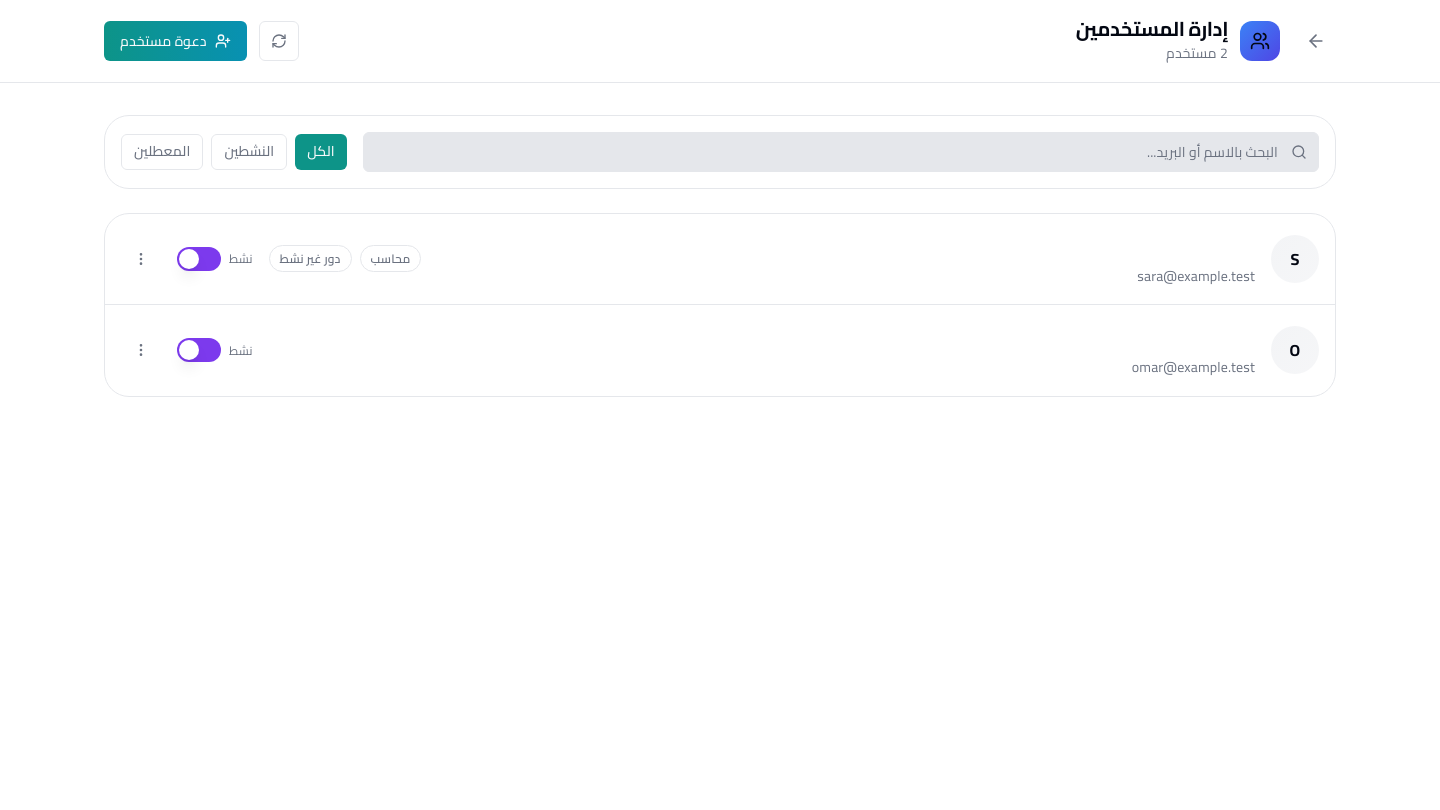
Test: controls — successful reads keep full-set replacement semantics › keeps an assigned inactive role across two unchanged saves
Step 1. Click the button named "إجراءات المستخدم" in the row of "دور غير نشط" → [141, 259], box x1=121 y1=239 x2=161 y2=279
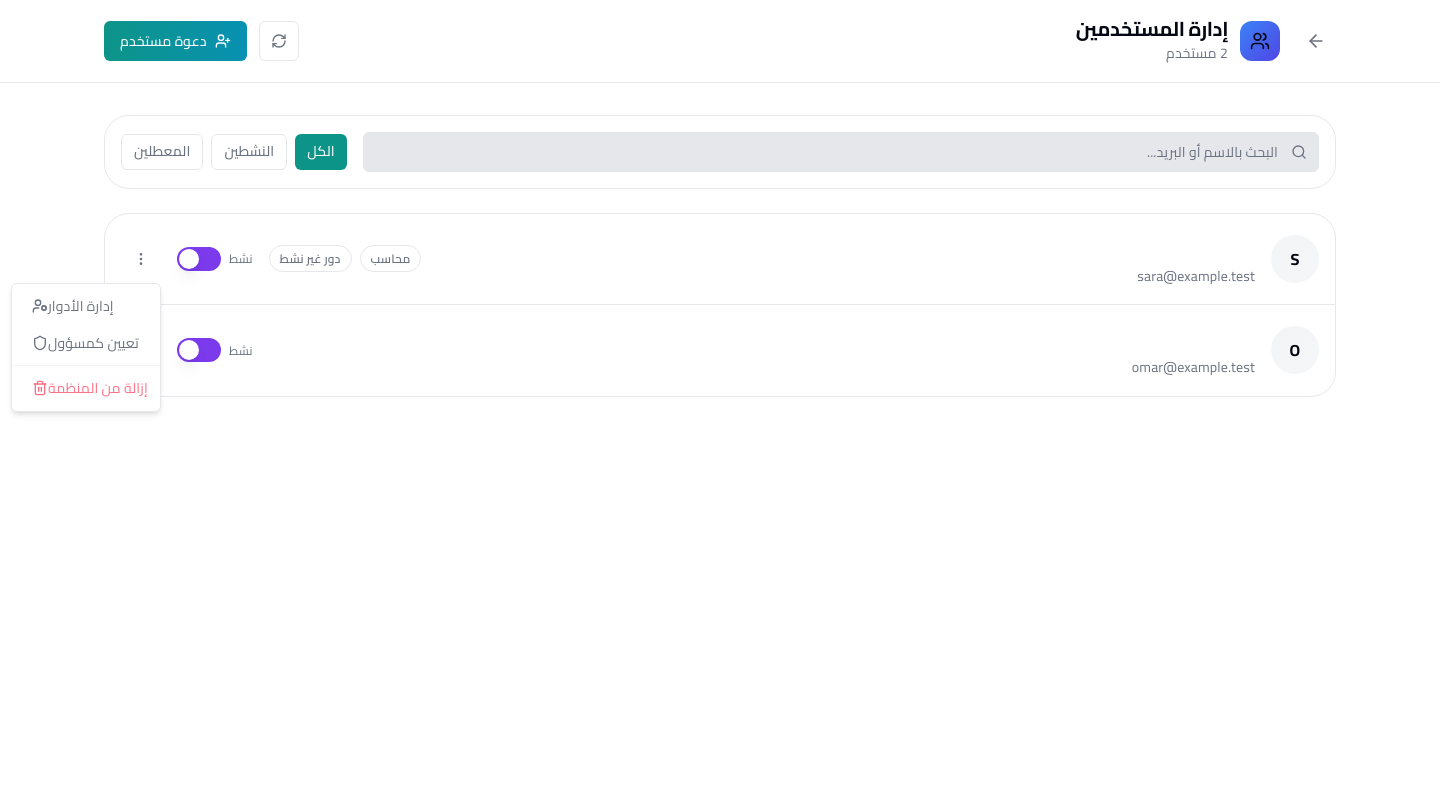
Step 2. Click the menu item "إدارة الأدوار" → [73, 306], box x1=32 y1=293 x2=114 y2=319
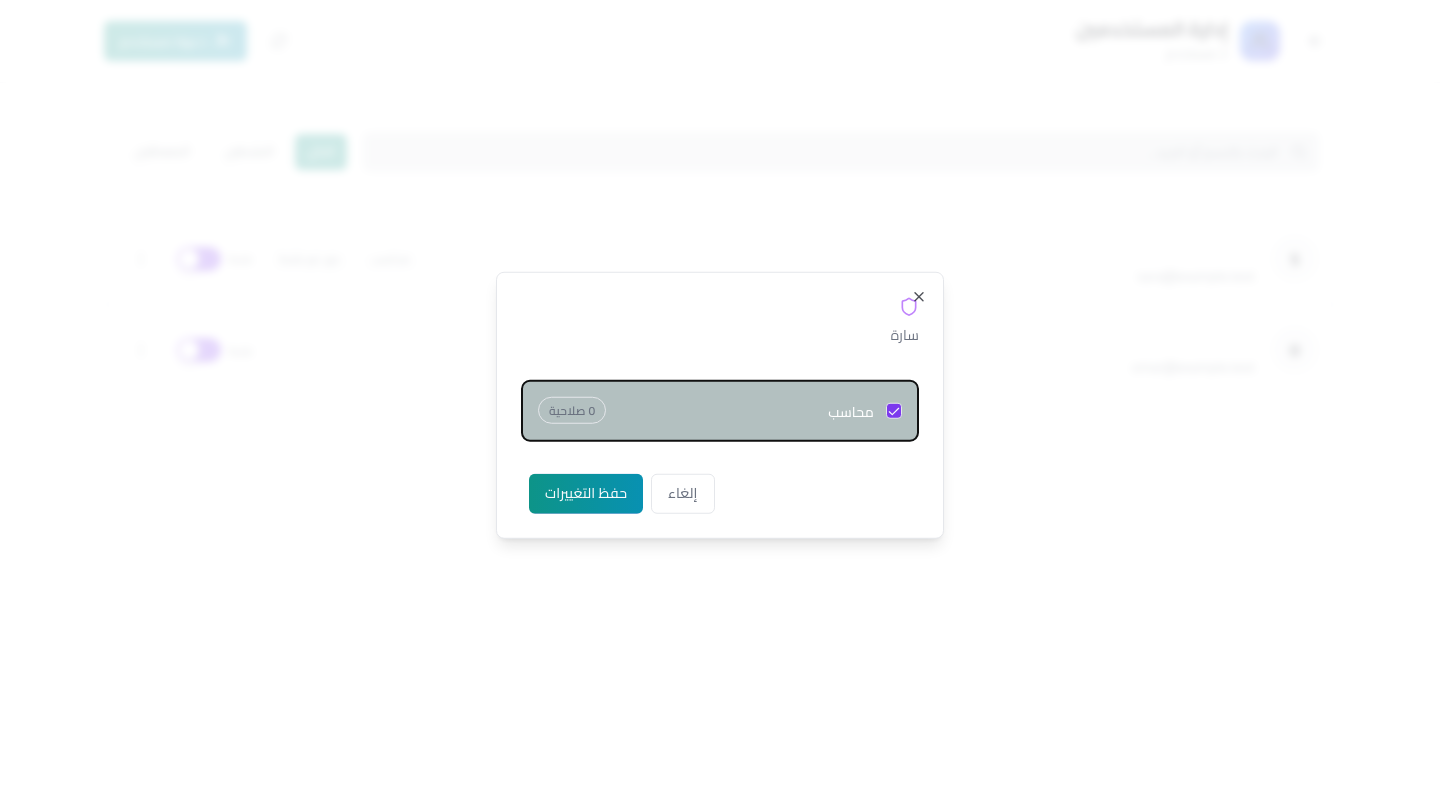
Now the dialog "إدارة أدوار المستخدم" is shown, box x1=496 y1=272 x2=944 y2=538
Step 3. Click the button "حفظ التغييرات" → [586, 493], box x1=529 y1=473 x2=643 y2=513
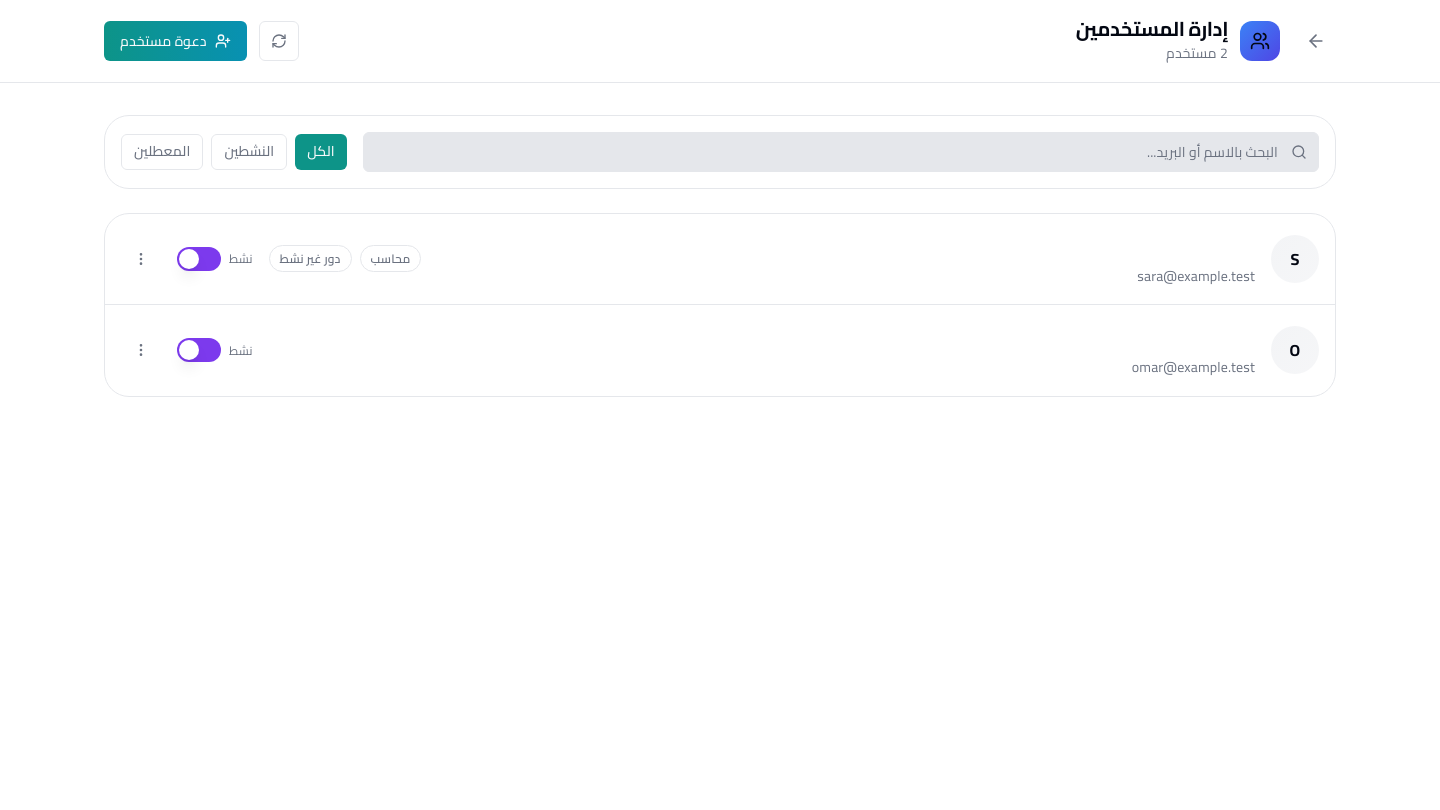
Now the heading "إدارة أدوار المستخدم" is gone
Step 4. Click the button named "إجراءات المستخدم" in the row of "دور غير نشط" → [141, 259], box x1=121 y1=239 x2=161 y2=279
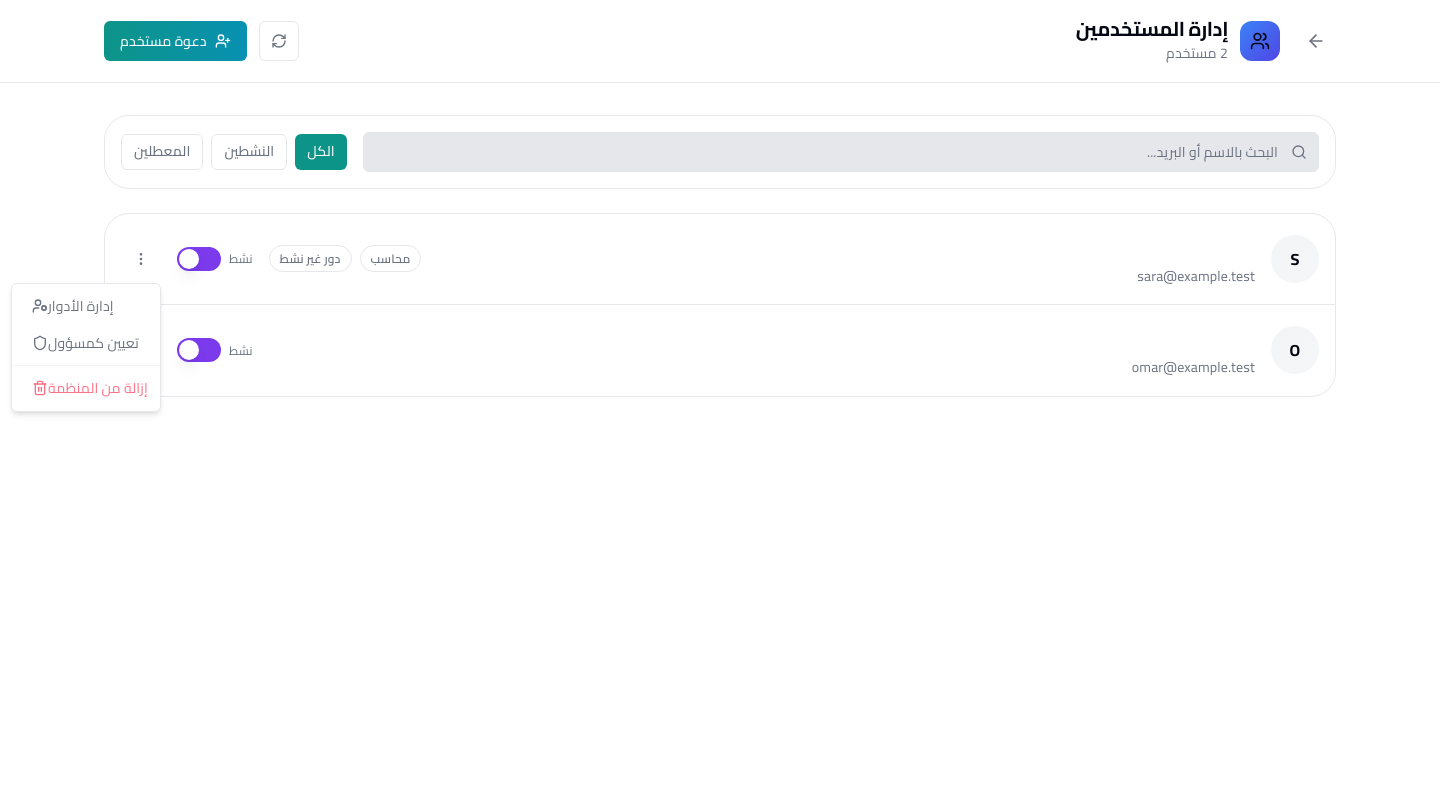
Step 5. Click the menu item "إدارة الأدوار" → [73, 306], box x1=32 y1=293 x2=114 y2=319
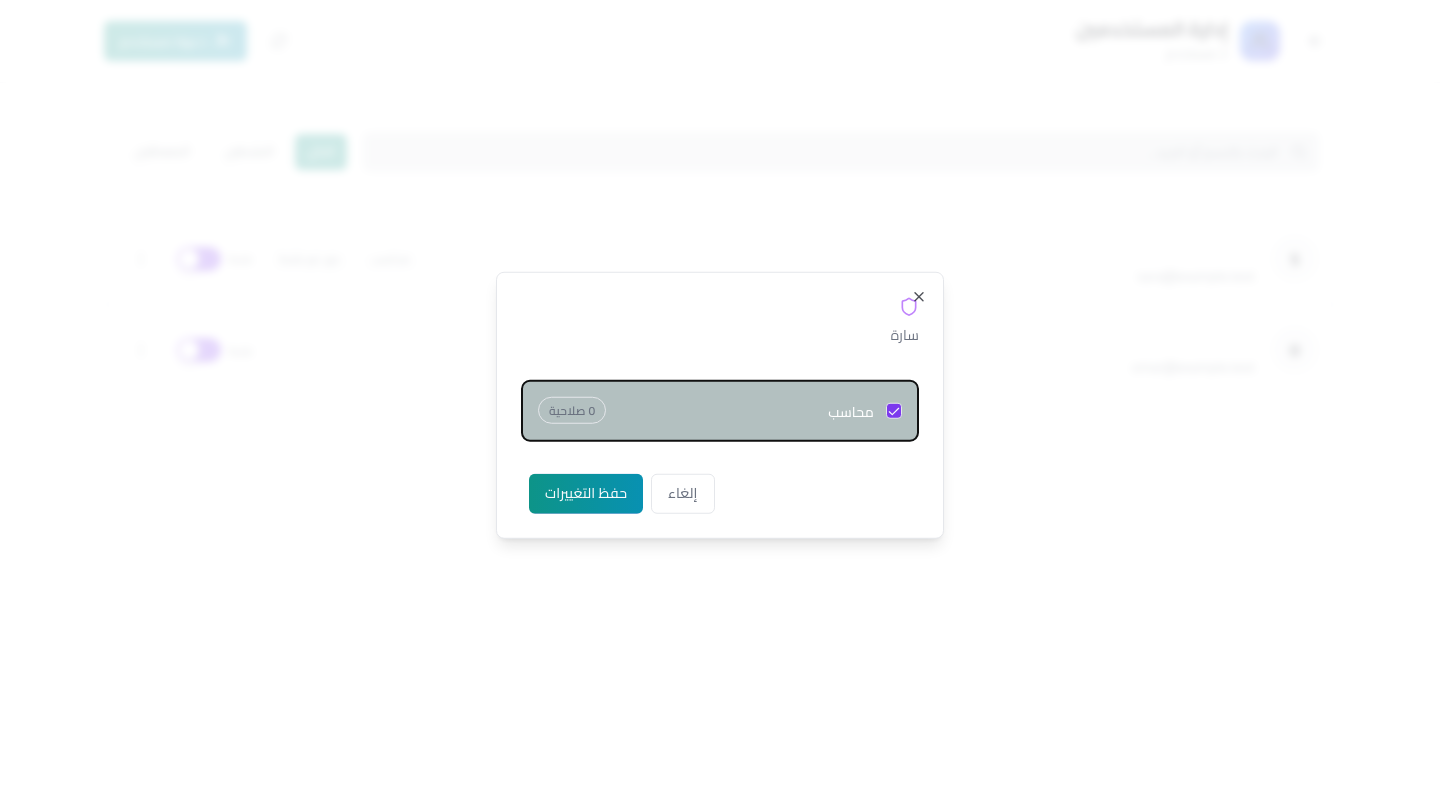
Now the dialog "إدارة أدوار المستخدم" is shown, box x1=496 y1=272 x2=944 y2=538
Step 6. Click the button "حفظ التغييرات" → [586, 493], box x1=529 y1=473 x2=643 y2=513
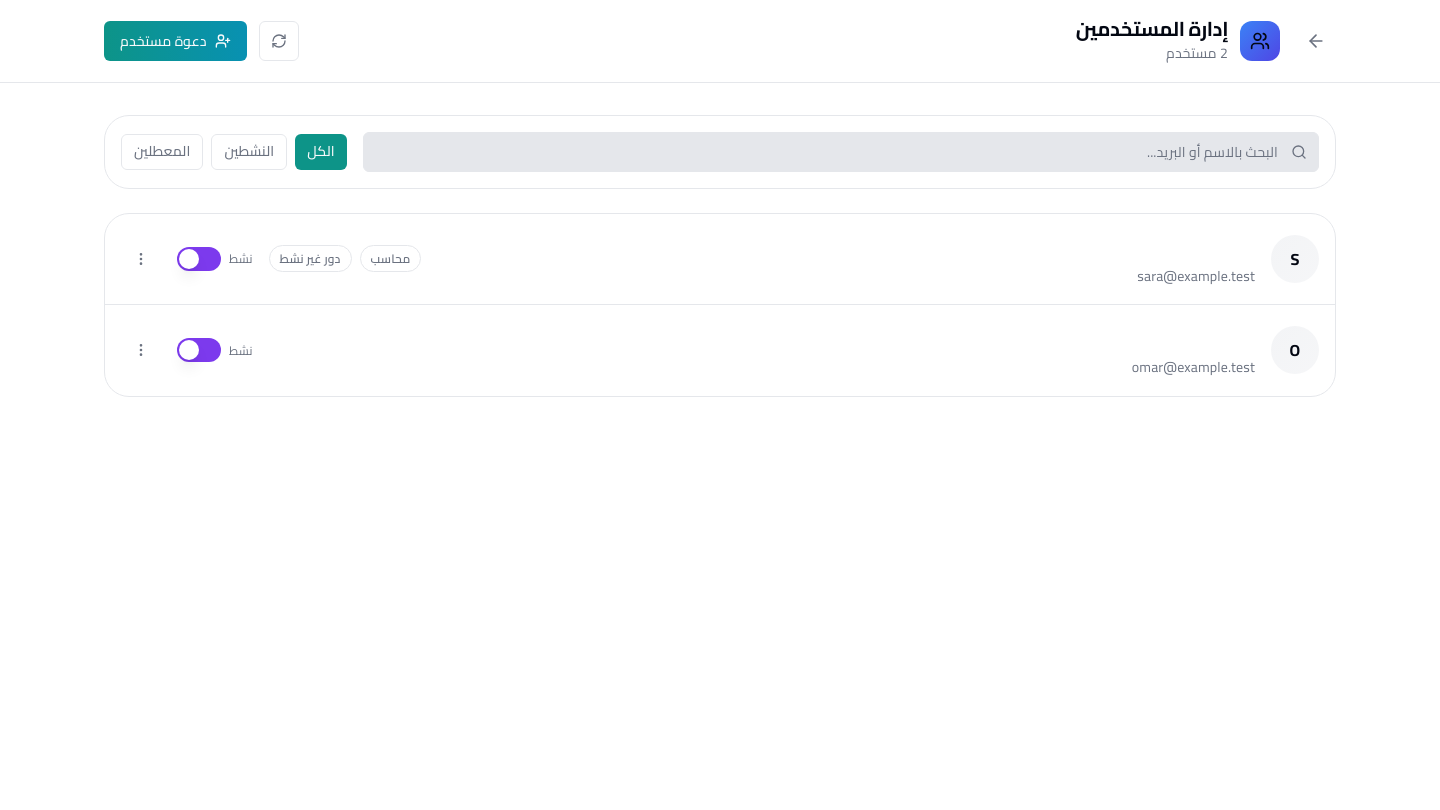
Now the heading "إدارة أدوار المستخدم" is gone
